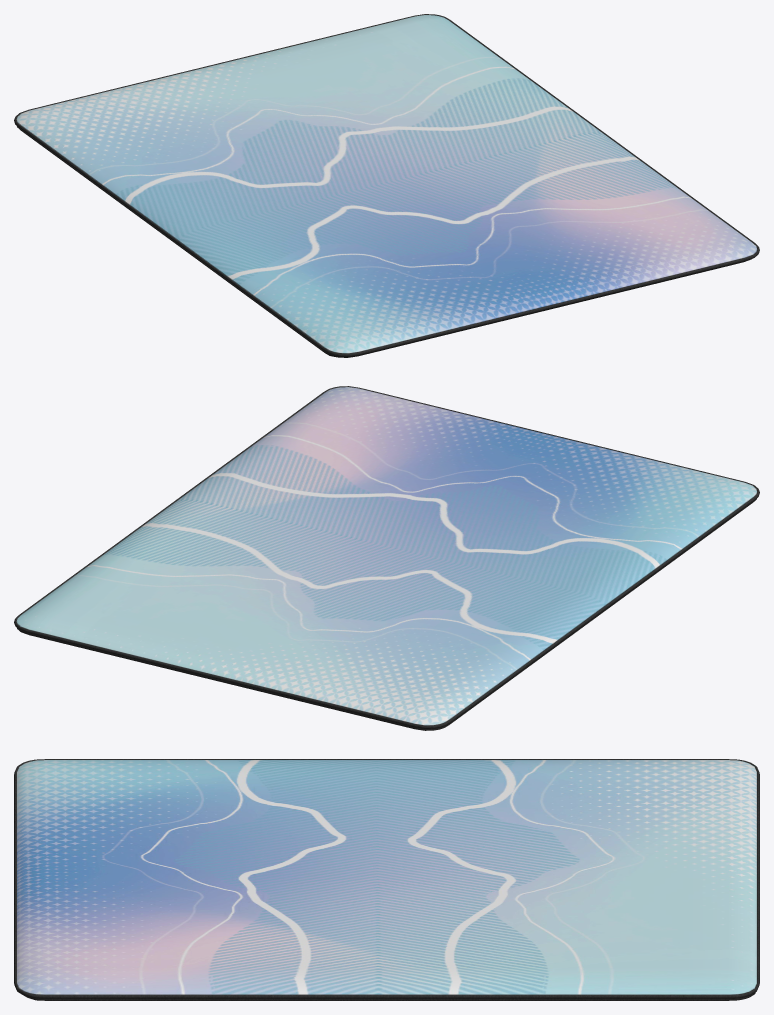
The model's file is Cover111.glb.
3 views of the same model, one above another, from view 1: azimuth 30°, elevation 25°; view 2: azimuth 150°, elevation 25°; view 3: azimuth 270°, elevation 25° (orthographic). The views are drawn at different scales.
Parts seen in each view (by area): view 1: Cover; view 2: Cover; view 3: Cover.
Boxes of the visible parts, x1,y1,x2,y2 form: Cover: [14, 14, 759, 357]; Cover: [14, 386, 759, 730]; Cover: [14, 759, 759, 1000].
Bounding box in the file's own units: 1.52 × 0.0377 × 2.03.
Materials: 1 (1 with a texture image).
